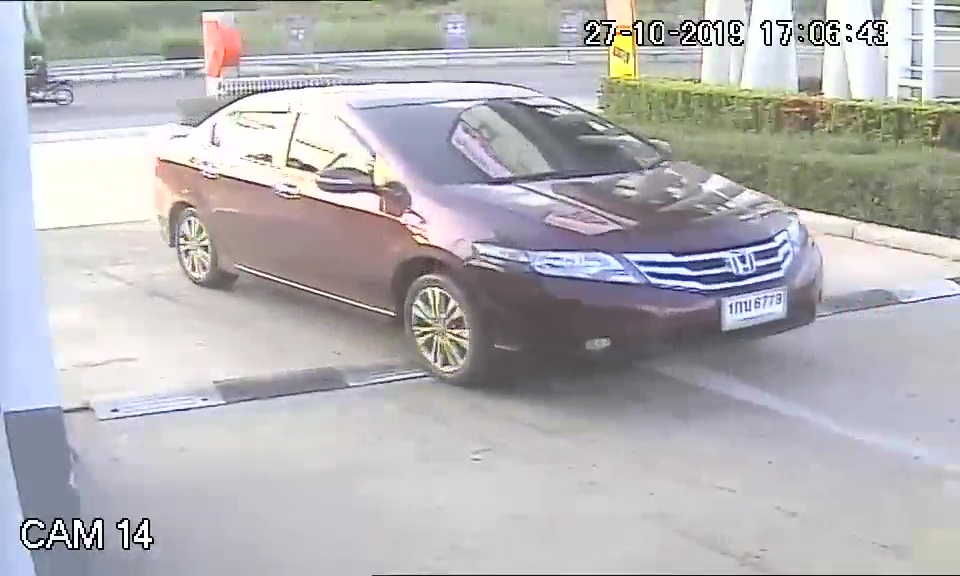sedan: (149, 75, 829, 387)
